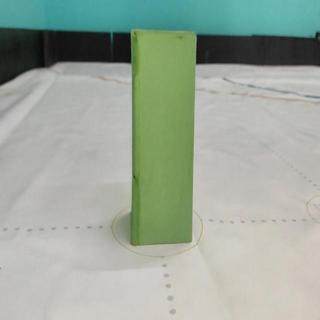greenbox: (129, 27, 198, 243)
